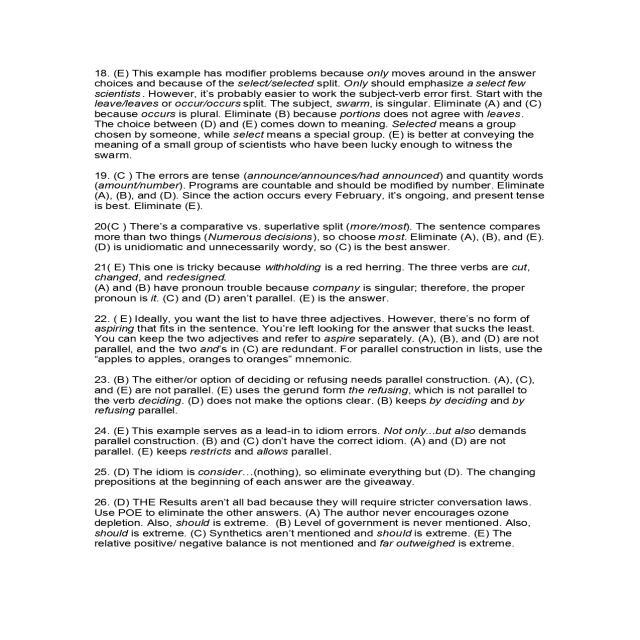Answer_Block: (48, 59, 581, 166), (46, 492, 582, 554), (51, 310, 581, 368), (46, 370, 582, 420), (53, 257, 581, 307), (48, 165, 581, 213), (46, 418, 582, 462), (46, 220, 582, 256), (46, 465, 582, 490)
Question_Answer_Block: (48, 59, 581, 166), (46, 492, 582, 554), (51, 310, 581, 368), (46, 370, 582, 420), (53, 257, 581, 307), (48, 165, 581, 213), (46, 418, 582, 462), (46, 220, 582, 256), (46, 465, 582, 490)
Question_Paper_Area: (48, 52, 584, 588)
